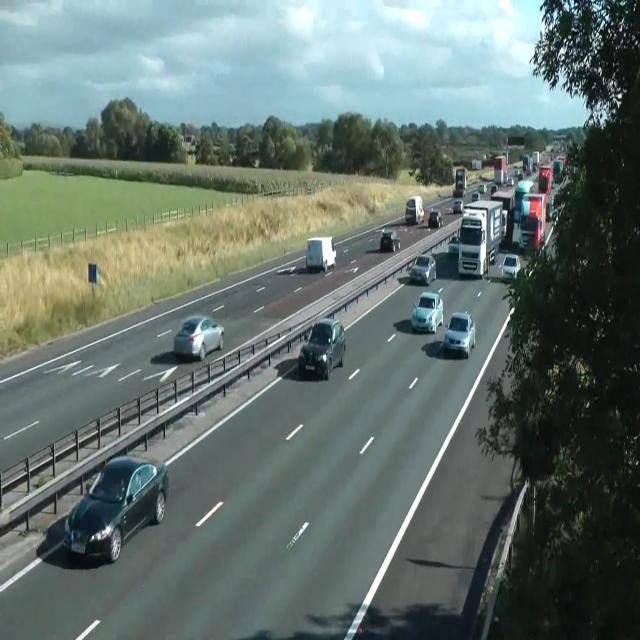bus: (63, 454, 169, 564), (174, 315, 224, 361), (443, 310, 475, 358), (410, 253, 436, 286), (501, 253, 521, 280), (380, 228, 400, 252), (428, 209, 442, 227), (276, 264, 296, 276), (447, 237, 459, 254), (453, 199, 463, 213), (504, 174, 514, 186), (546, 202, 552, 221), (478, 183, 486, 194), (471, 191, 479, 202), (491, 184, 497, 196), (514, 168, 522, 177)
car: (457, 199, 503, 278), (517, 191, 547, 253)
jeep: (298, 316, 346, 379), (411, 290, 443, 333)
minibus: (490, 188, 514, 247), (306, 235, 336, 273), (405, 195, 424, 225), (453, 166, 467, 198), (538, 165, 552, 195), (494, 155, 507, 185), (522, 153, 532, 174), (532, 150, 540, 170), (471, 160, 481, 170)
